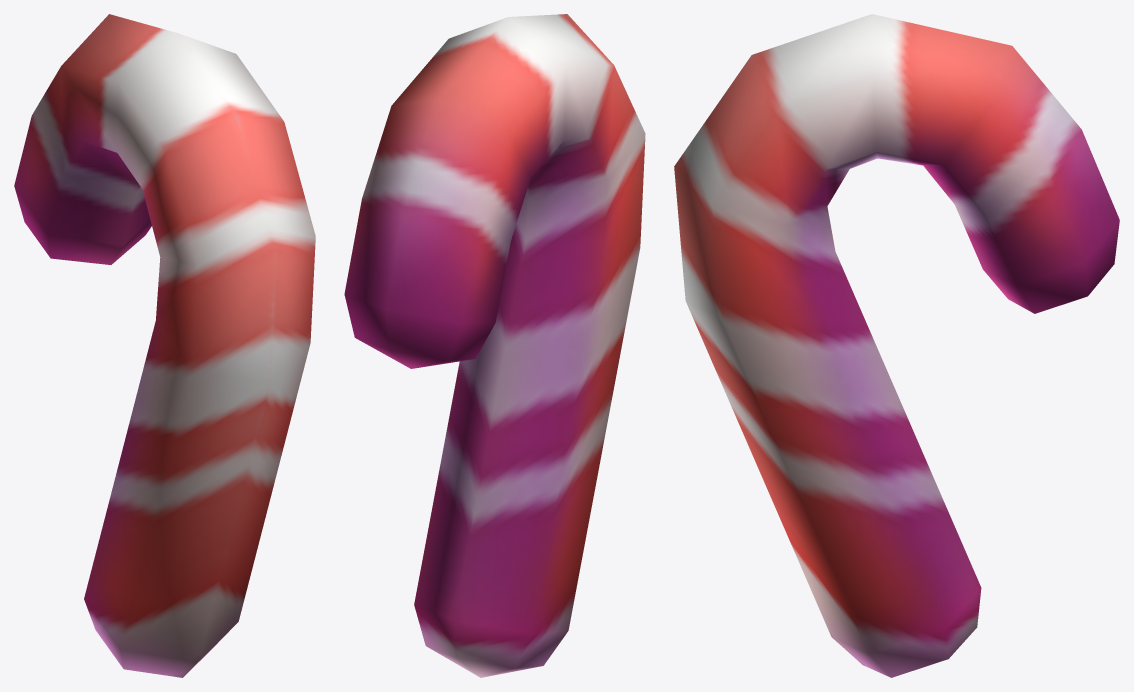
File: scenes_candy_tools02.FBX
The picture shows the model from 3 angles, left to right: view 1: azimuth 30°, elevation 25°; view 2: azimuth 150°, elevation 25°; view 3: azimuth 270°, elevation 25°; orthographic projection.
Parts seen in each view (by area): view 1: scenes_candy_tools02; view 2: scenes_candy_tools02; view 3: scenes_candy_tools02.
Boxes of the visible parts, bbox=[...] form: scenes_candy_tools02: bbox=[14, 14, 315, 677]; scenes_candy_tools02: bbox=[344, 14, 645, 677]; scenes_candy_tools02: bbox=[674, 14, 1119, 677].
Size of the model in its own units: 19.29 by 100 by 62.23.
